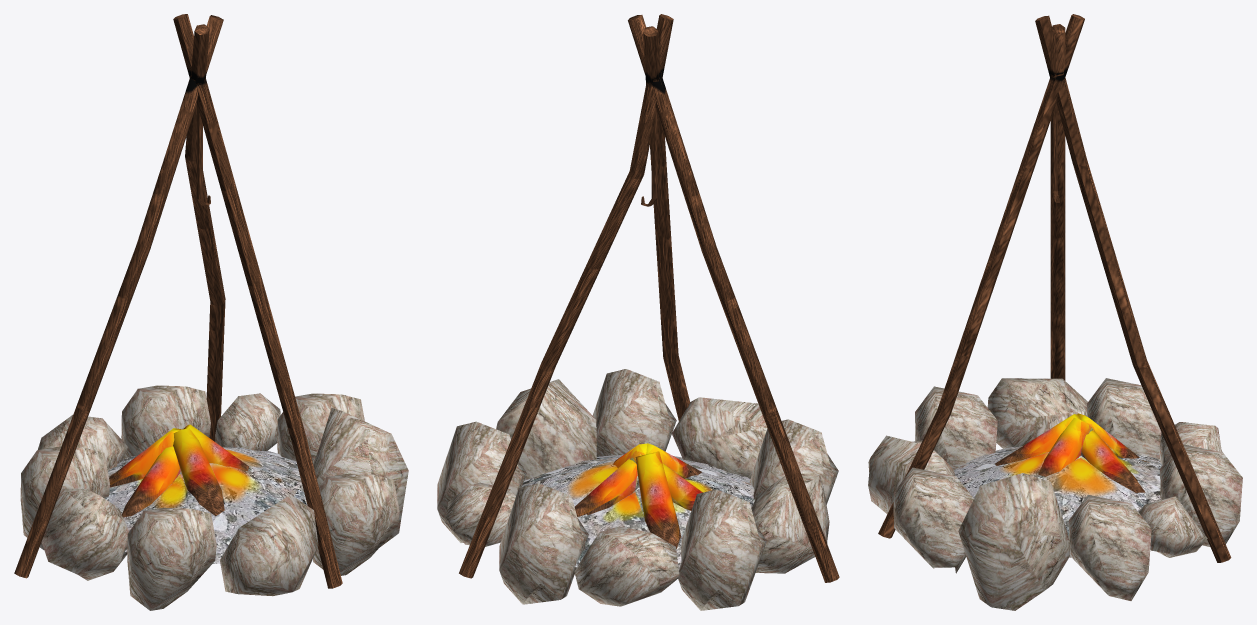
File: gladius_s_feuer1.fbx
The picture shows the model from 3 angles, left to right: view 1: azimuth 30°, elevation 25°; view 2: azimuth 150°, elevation 25°; view 3: azimuth 270°, elevation 25°; orthographic projection. The views are drawn at different scales.
Parts seen in each view (by area): view 1: fireplace; view 2: fireplace; view 3: fireplace.
Boxes of the visible parts, x1,y1,x2,y2 form: fireplace: (14, 14, 408, 610); fireplace: (437, 14, 839, 610); fireplace: (868, 14, 1242, 610).
Bounding box in the file's own units: 4.4 × 6.04 × 3.97.
